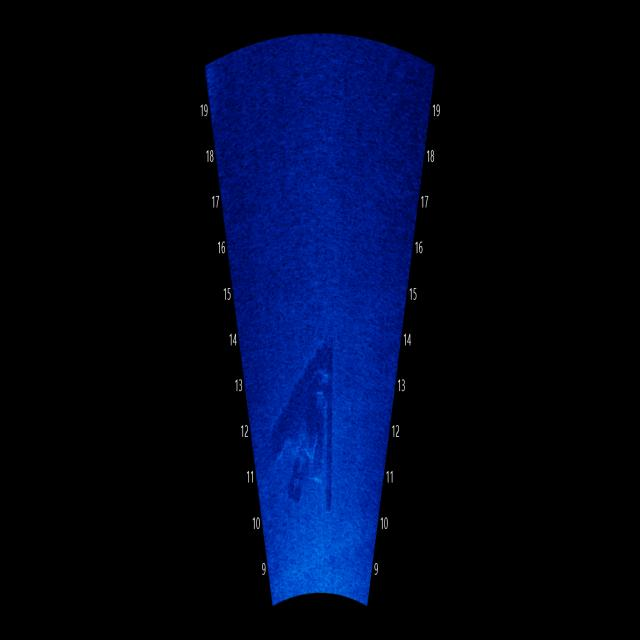triangle: (268, 337, 340, 519)
